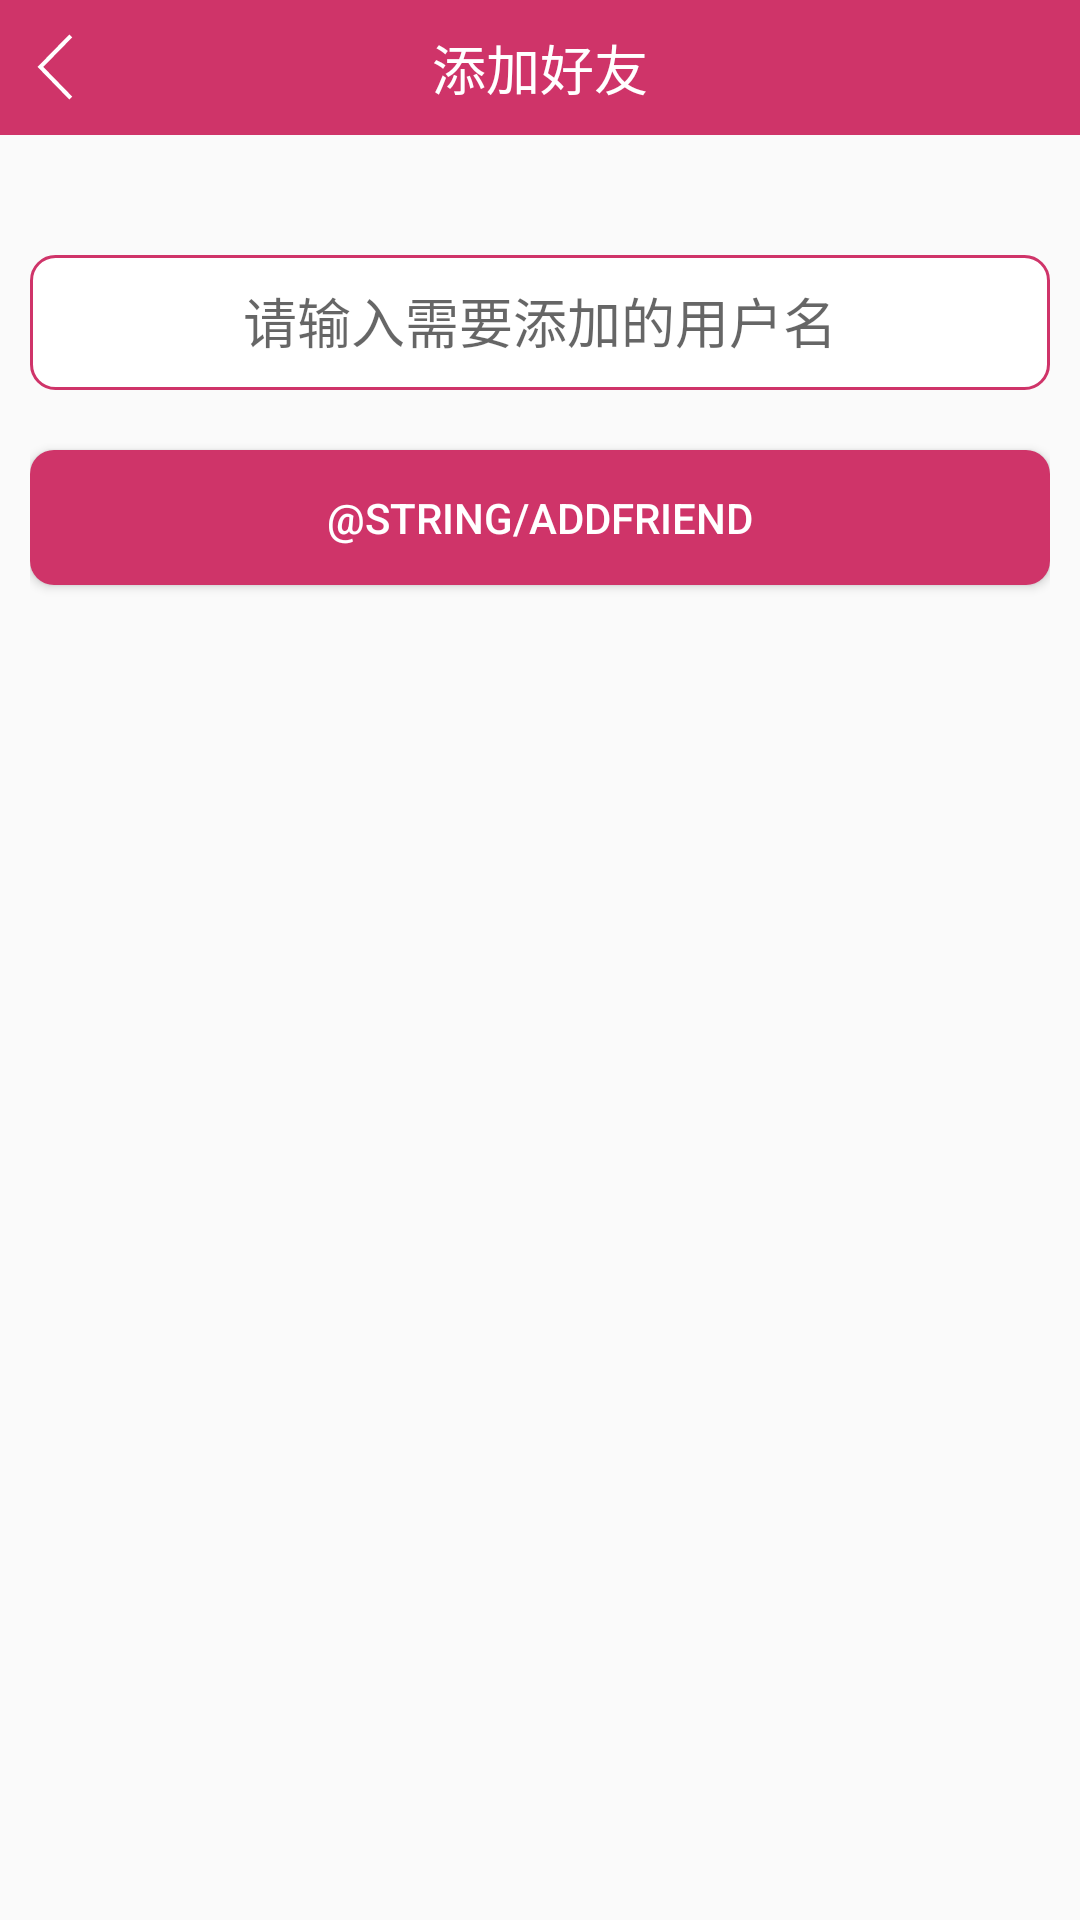

Where icons sit on this 1080*1920 app screen, as (x1, y1, x2, y2):
back: (37, 34, 72, 100)
